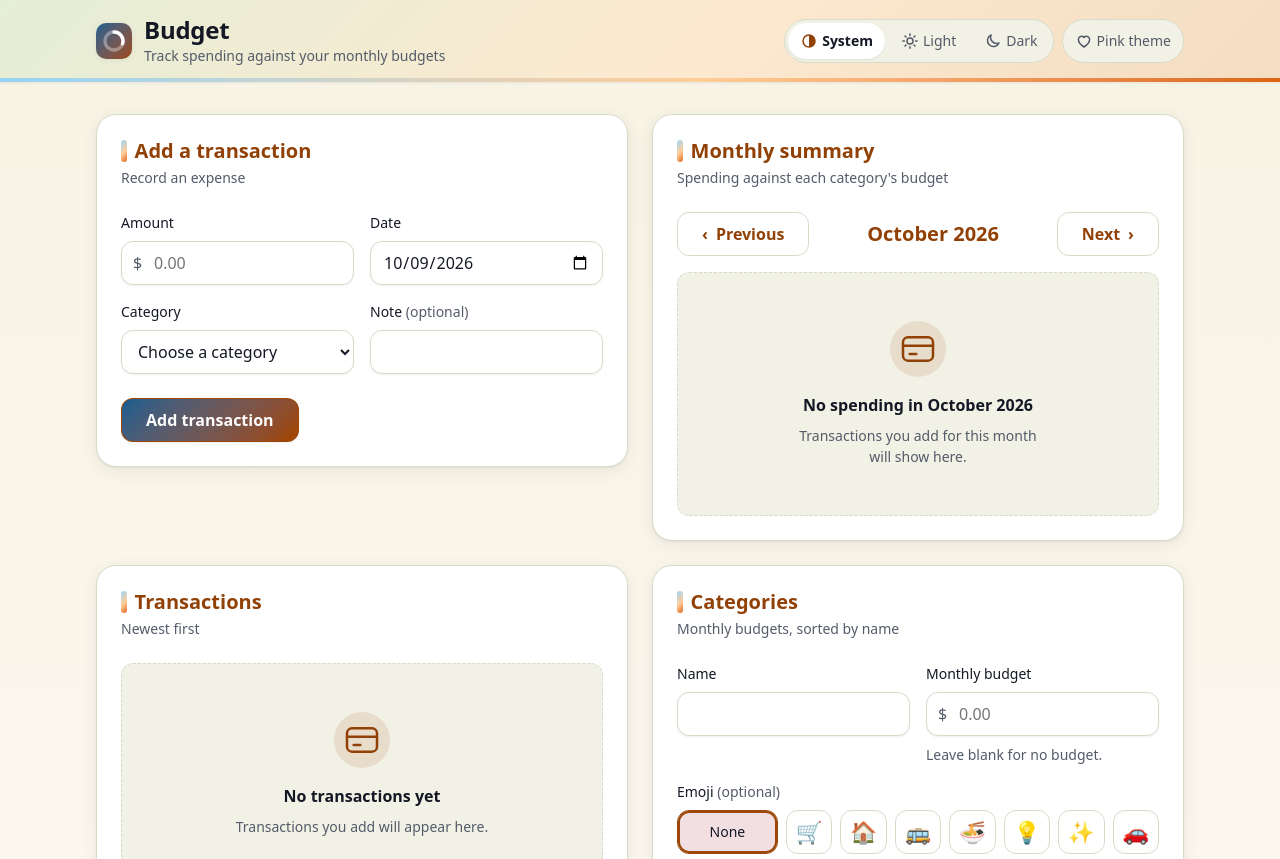
Test: App › shows a transaction added with the form at the top of the list
Type "40" into the field labelled "Amount" at x=238, y=263, box [121, 241, 354, 285]
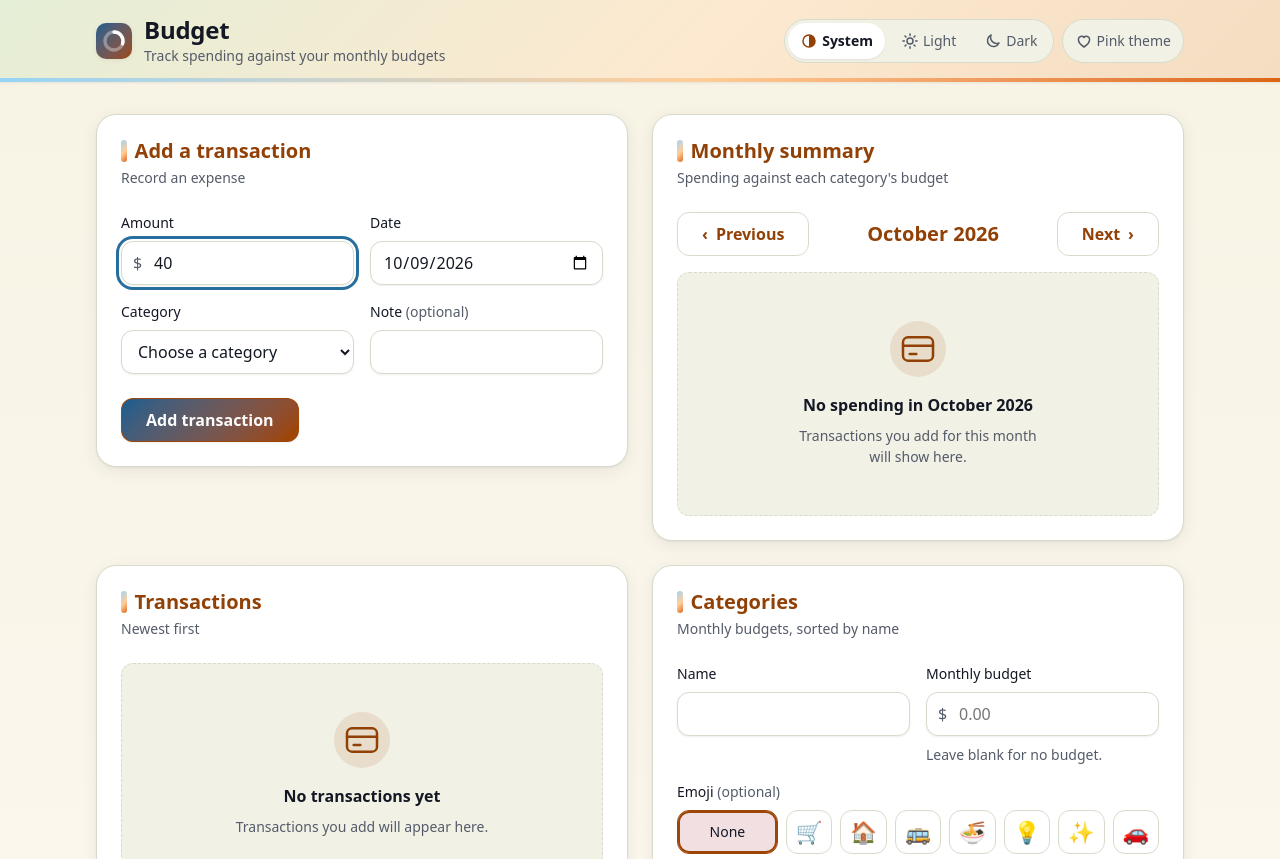
Select "🚌 Transport" in the dropdown labelled "Category" at x=238, y=352, box [121, 330, 354, 374]
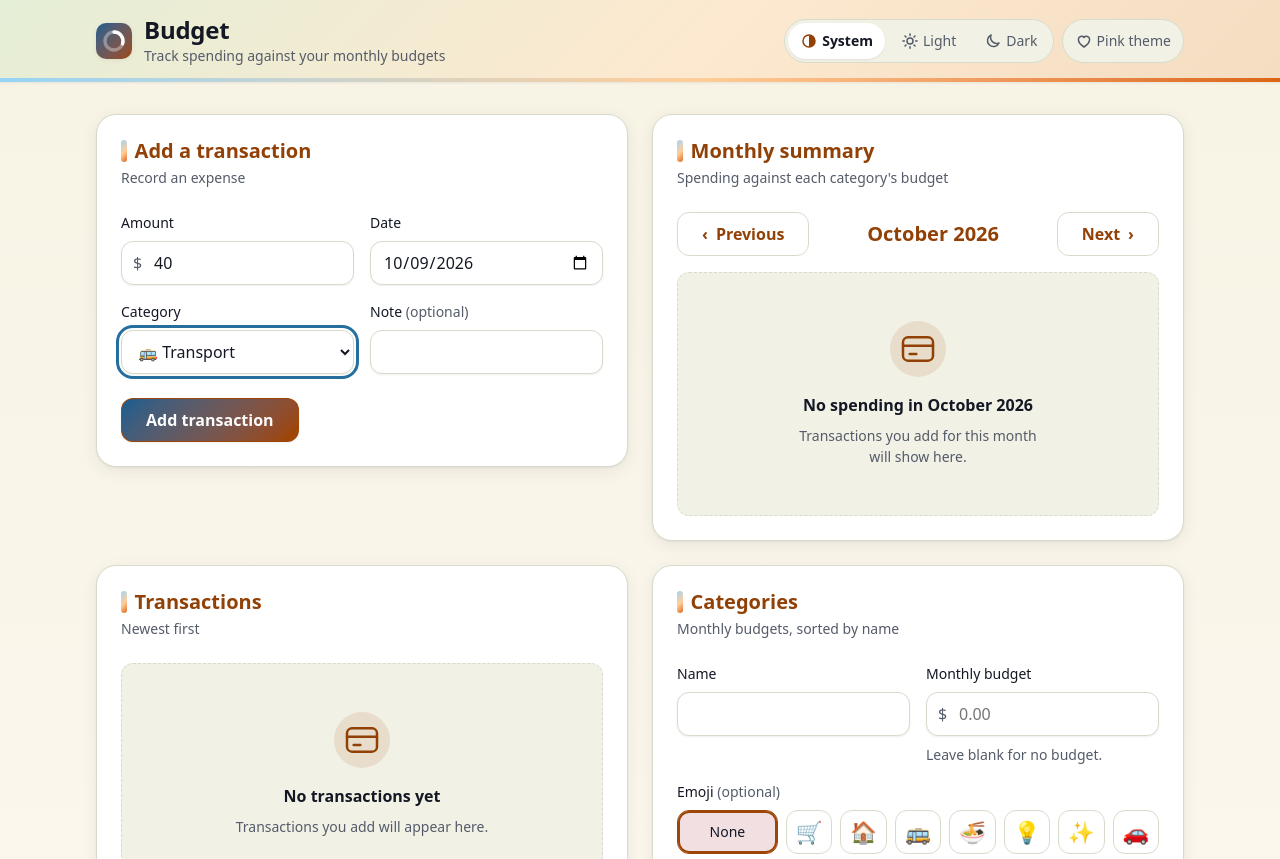
Click the button "Add transaction" at x=210, y=420, box [121, 398, 299, 442]
(page scrolled)
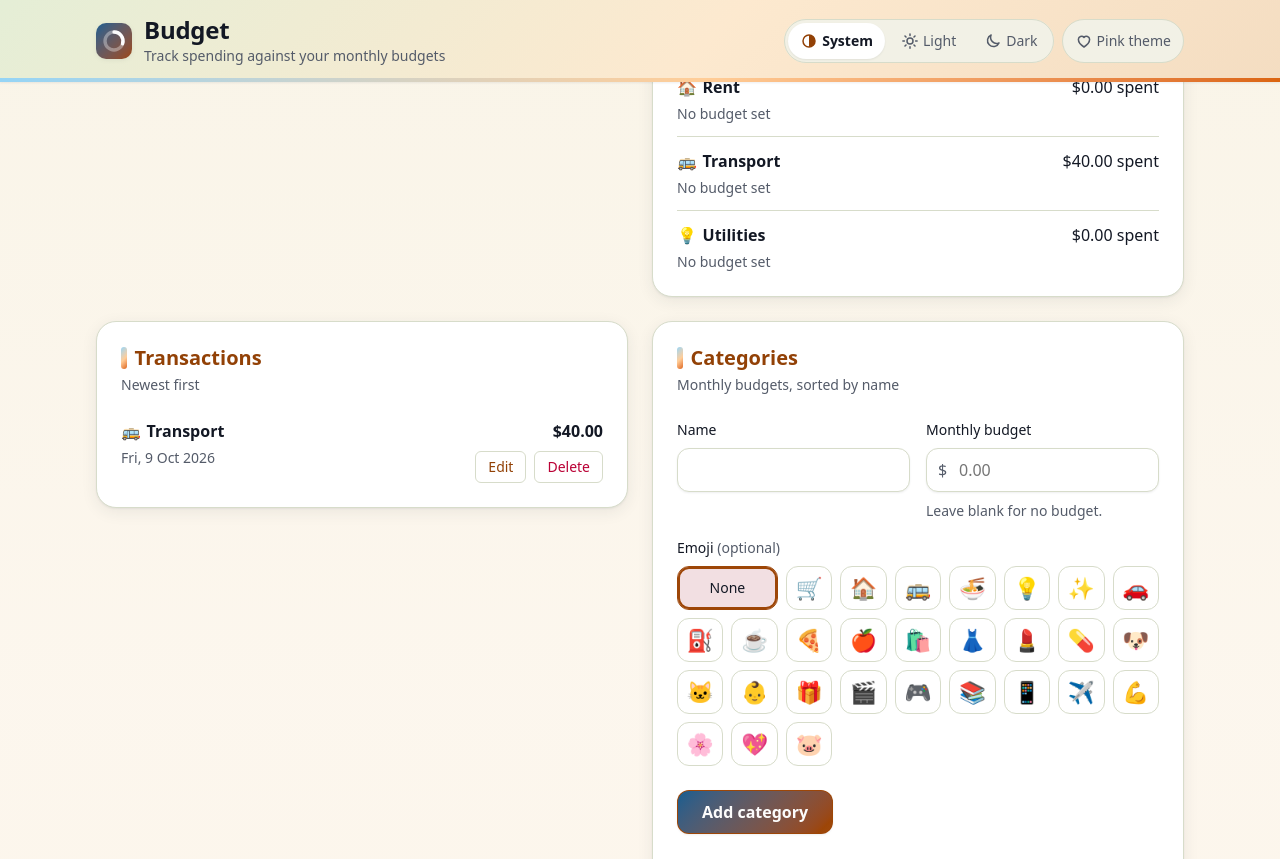
Expected: the list item "🚌 Transport Fri, 9 Oct 2026 $40.00 Edit Delete" is shown, [121, 419, 603, 483]
